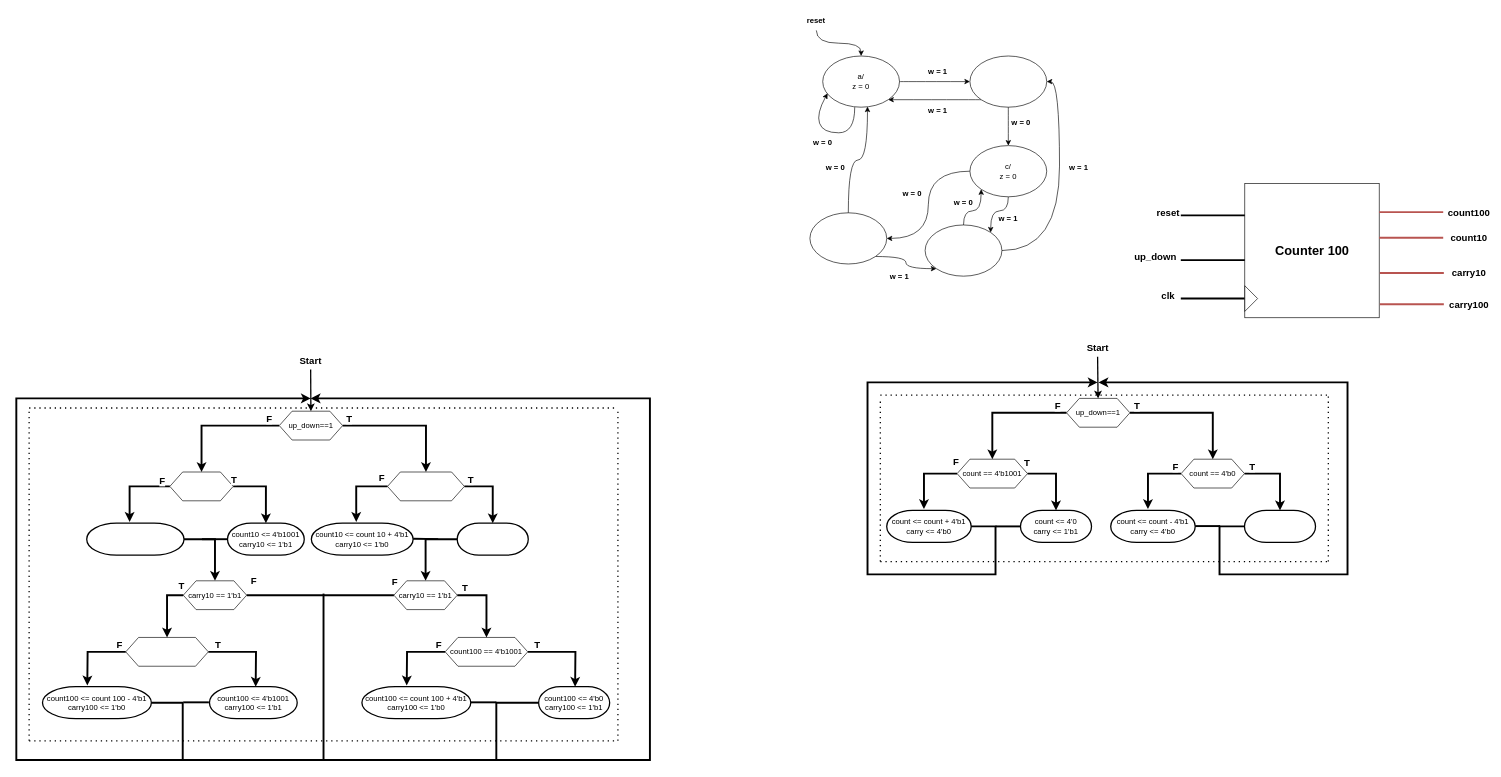
This 1501x777 diagram has some shape labels left out. The box of each missing label's shape, as (x1, y1, x2, y2) in pixels:
b/ z = 0: (969, 55, 1047, 107)
count <= 4'b1001 carry <= 1'b1: (1244, 509, 1316, 543)
count10 <= 4'b0 carry10 <= 1'b1: (456, 522, 529, 556)
count10 <= count10 - 4'b1 carry10 <= 0: (86, 522, 184, 556)
count10 == 4'b0: (169, 471, 233, 501)
count10 == 4'b1001: (387, 471, 464, 501)
count100 == 4'b0: (125, 637, 208, 666)
d/ z = 1: (924, 224, 1002, 276)
e/ z = 0: (809, 212, 887, 264)
